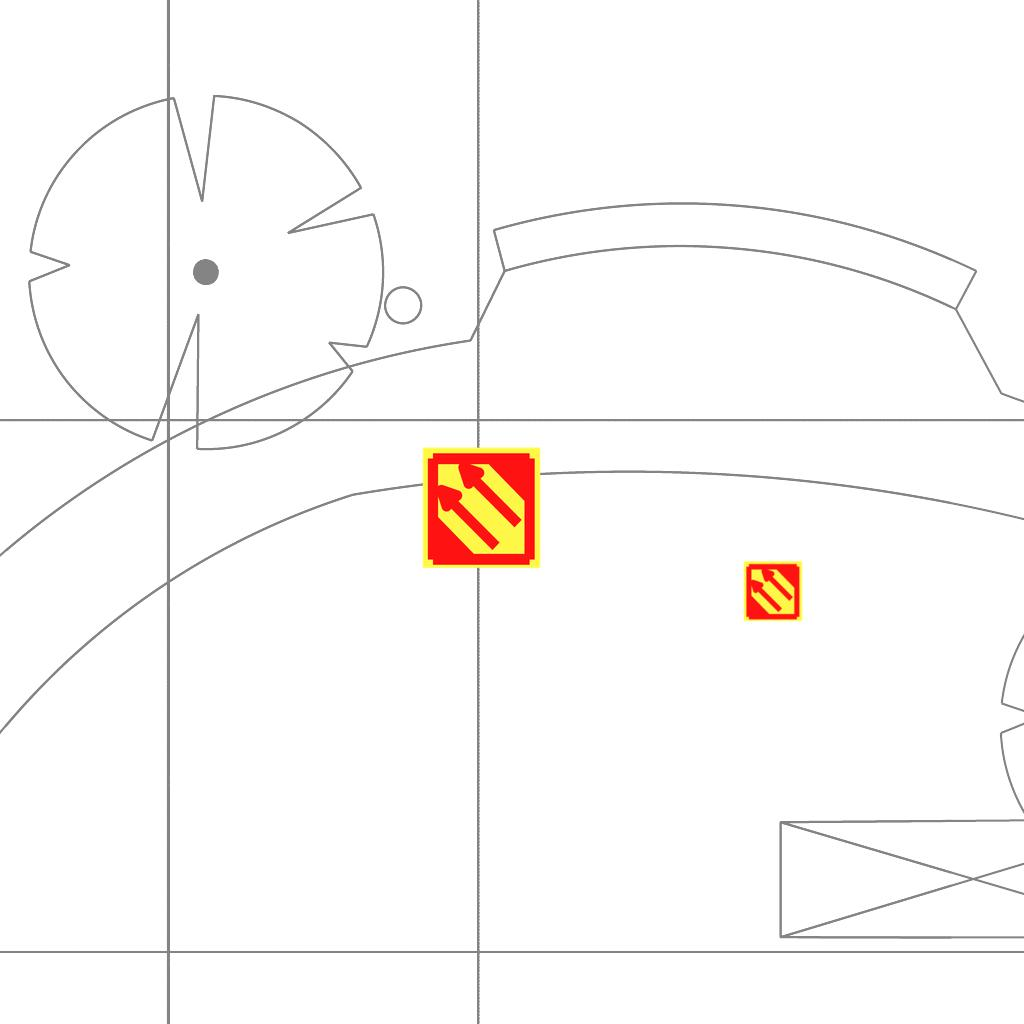ASR_Ansaugrauchmelder: (419, 445, 544, 570), (742, 560, 804, 622)
